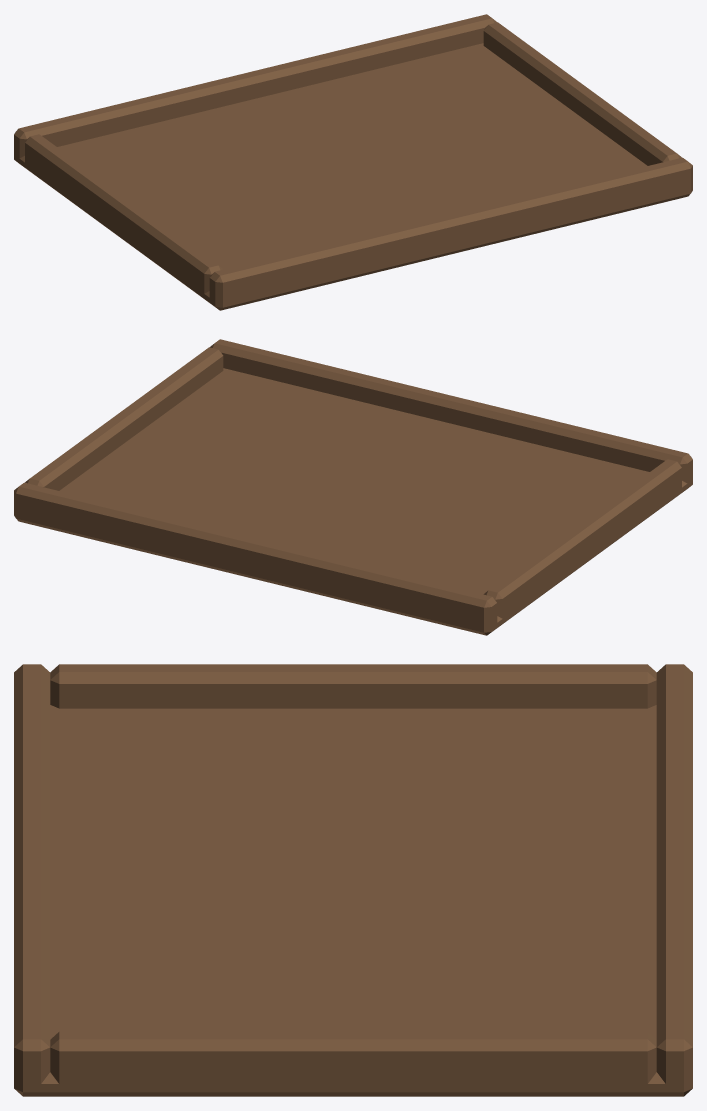
The model's file is tray.glb.
The picture shows the model from 3 angles, top to bottom: view 1: azimuth 30°, elevation 25°; view 2: azimuth 150°, elevation 25°; view 3: azimuth 270°, elevation 25°; orthographic projection. The views are drawn at different scales.
Visible parts, largest first — view 1: tray; view 2: tray; view 3: tray.
Part boxes in pixels (box(x1,y1,x2,y2)): tray: box(14, 14, 692, 310); tray: box(14, 339, 692, 635); tray: box(14, 664, 692, 1096).
Size of the model in its own units: 0.4 by 0.028 by 0.3.
